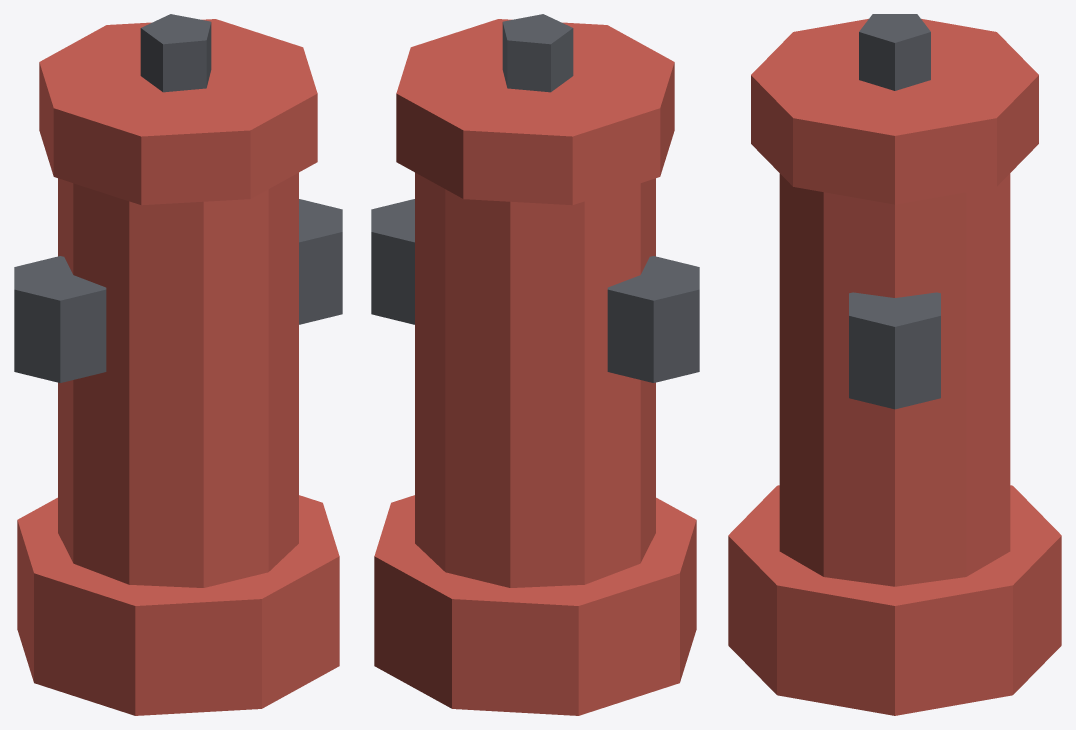
Rendered from arkham_street_hydrant.glb.
The picture shows the model from 3 angles, left to right: view 1: azimuth 30°, elevation 25°; view 2: azimuth 150°, elevation 25°; view 3: azimuth 270°, elevation 25°; orthographic projection.
Visible parts, largest first — view 1: Arkham_Street_Hydrant; view 2: Arkham_Street_Hydrant; view 3: Arkham_Street_Hydrant.
Boxes of the visible parts, x1,y1,x2,y2 form: Arkham_Street_Hydrant: (14,14,342,715); Arkham_Street_Hydrant: (371,14,699,715); Arkham_Street_Hydrant: (728,14,1061,715).
Bounding box in the file's own units: 0.5 × 0.9 × 0.44.
